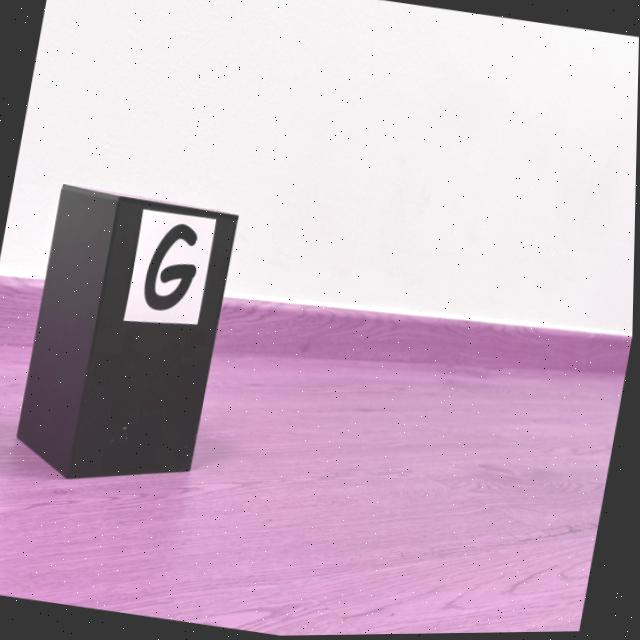G: (145, 224, 198, 311)
